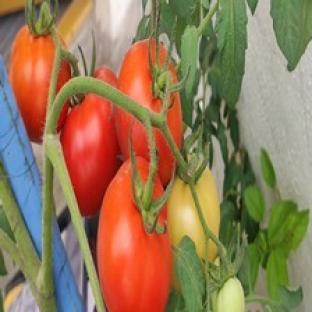Tomato: (98, 159, 171, 311), (60, 94, 121, 217), (9, 26, 54, 143), (168, 177, 217, 261), (119, 41, 162, 111), (214, 278, 245, 311)
